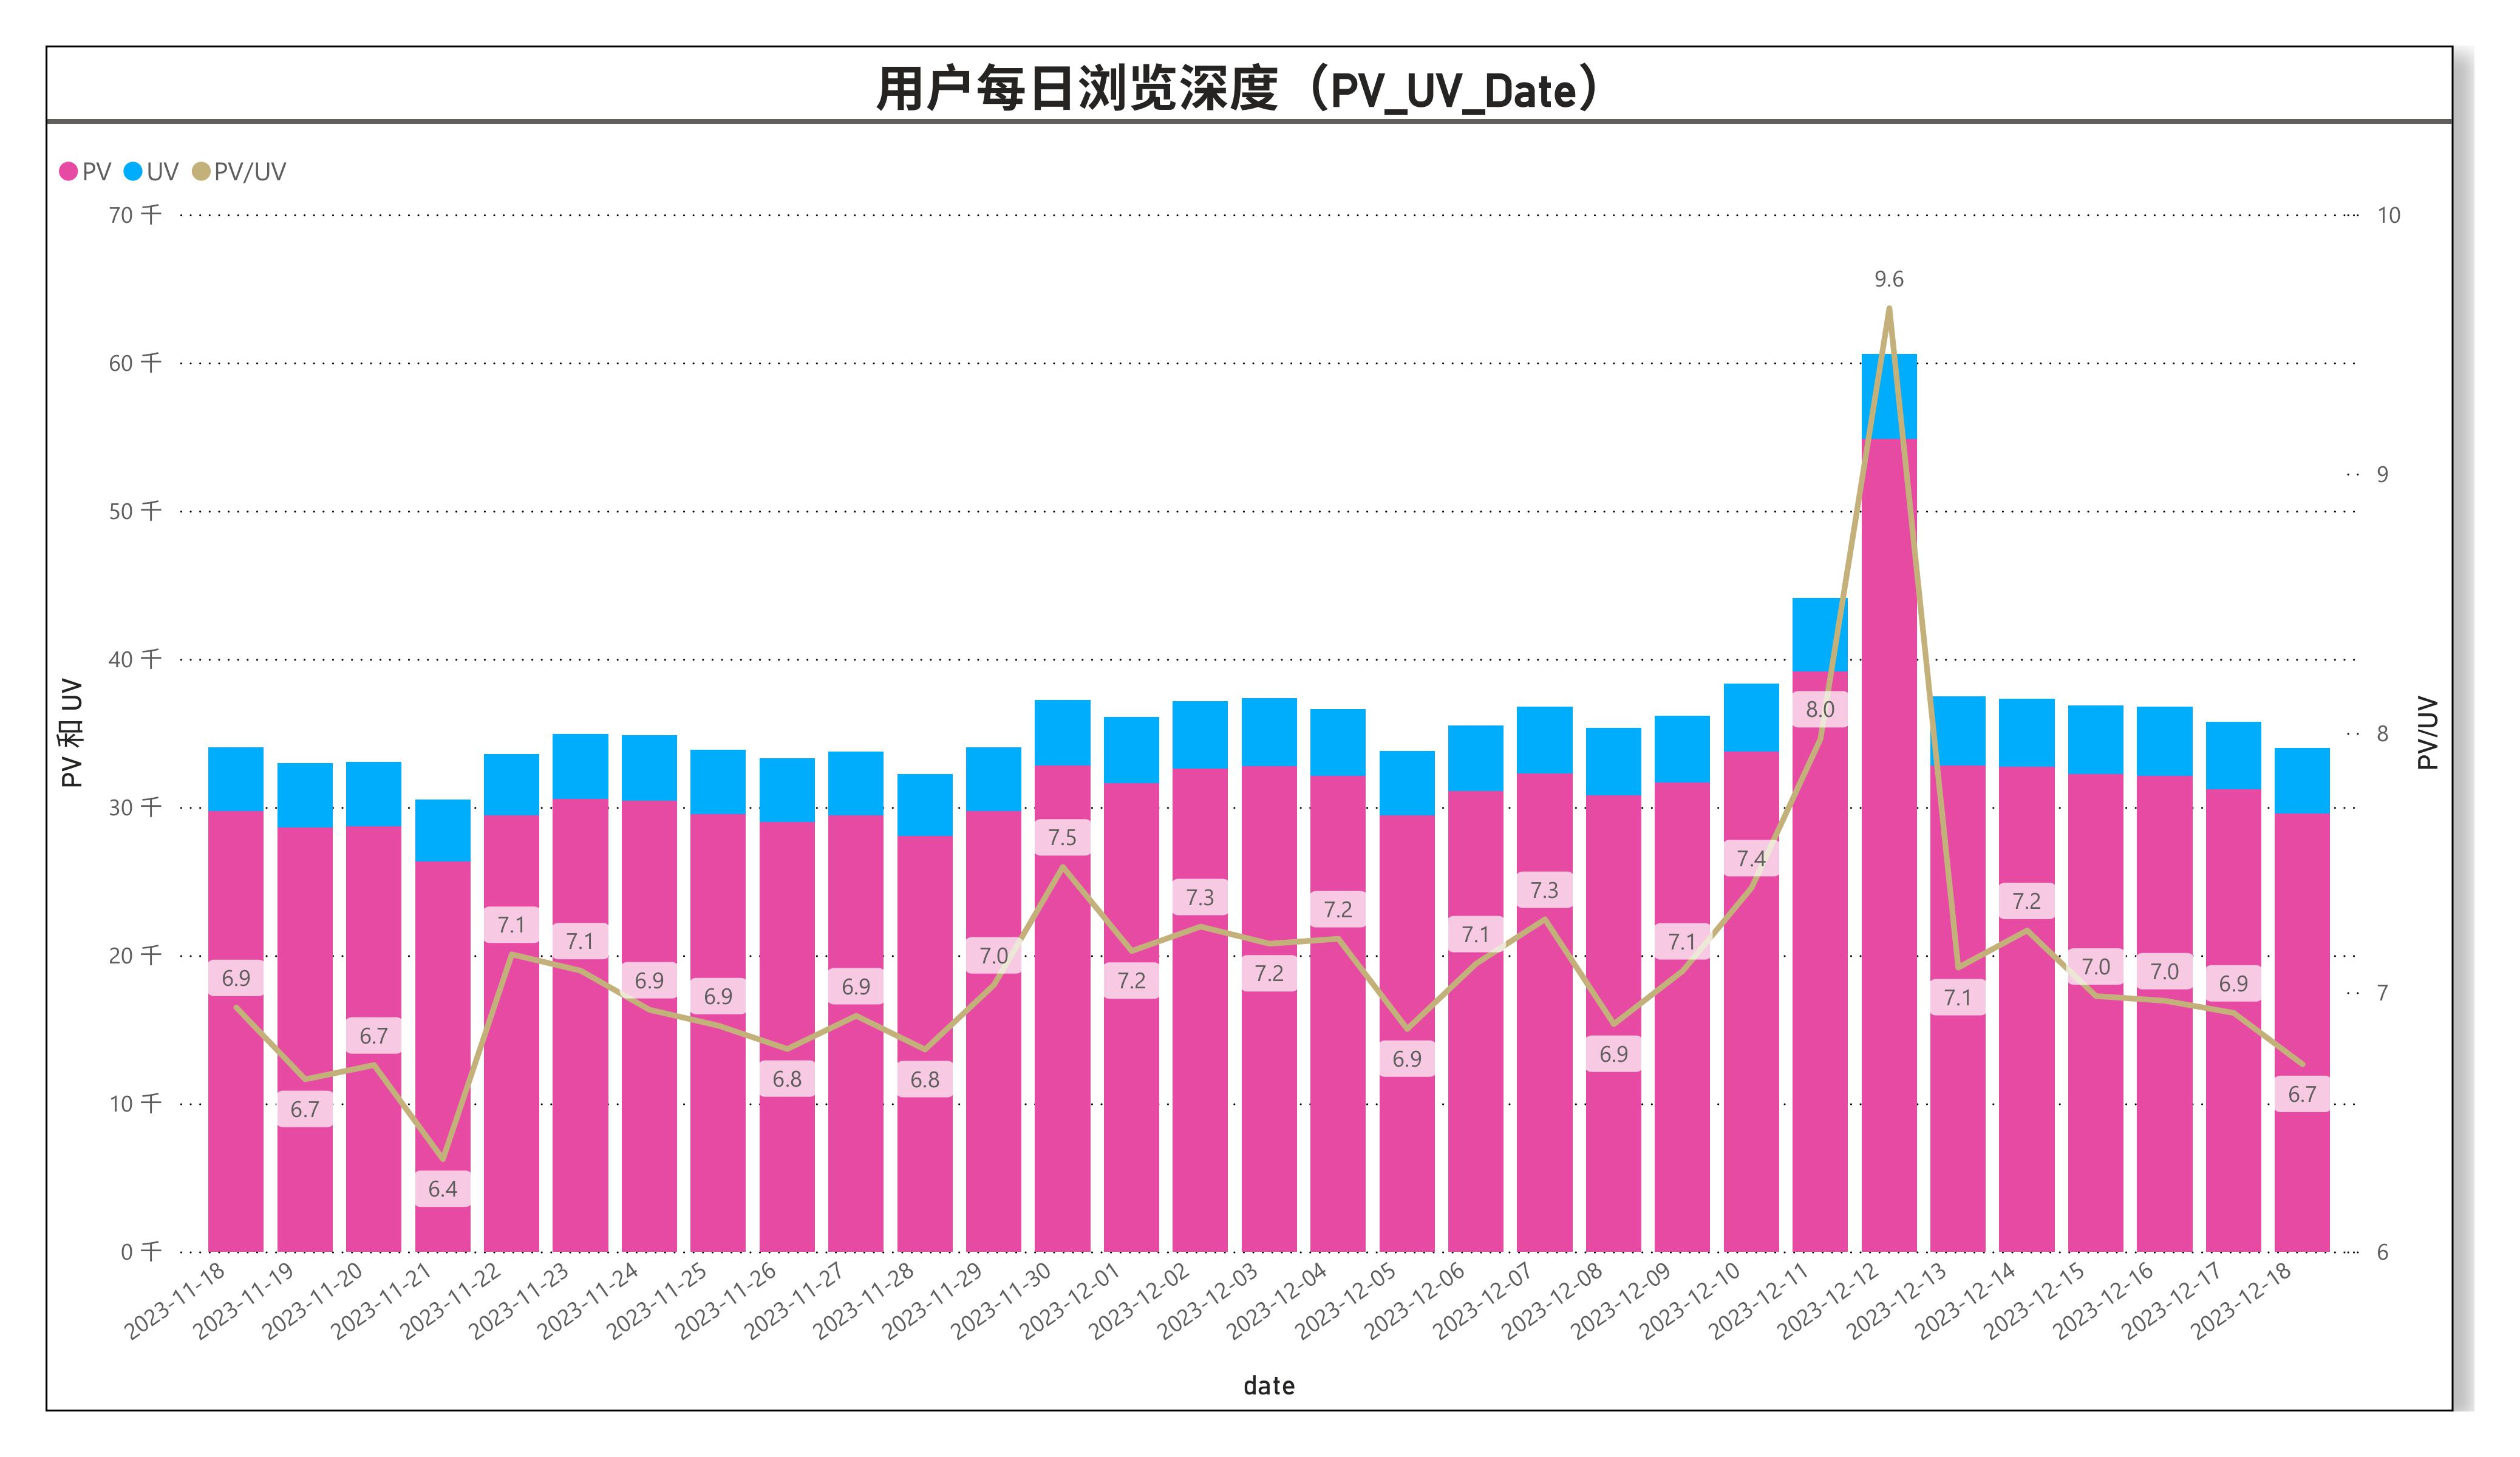

The page's visual inventory and layout, read from the dashboard file:
{"tool":"powerbi","page":{"name":"日流量分析","canvas":[1280,720],"ordinal":0},"visuals":[{"type":"lineStackedColumnComboChart","title":"用户每日浏览深度（PV_UV_Date）","fields":{"Category":["cusbeaty_db ed_pv_uv.date"],"Y":["Sum(cusbeaty_db ed_pv_uv.PV)","Sum(cusbeaty_db ed_pv_uv.UV)"],"Y2":["Sum(cusbeaty_db ed_pv_uv.PVUV)"]},"box":[0,0,1269.3,719.6],"z":1}]}

Visuals, with their boxes on the page's 1280x720 design canvas (x1, y1, x2, y2). These are canvas units, not pixel positions in the 2520x1457 screenshot, which may show the page scaled, cropped or inside an application window:
"用户每日浏览深度（PV_UV_Date）" lineStackedColumnComboChart: 0,0,1269,720
